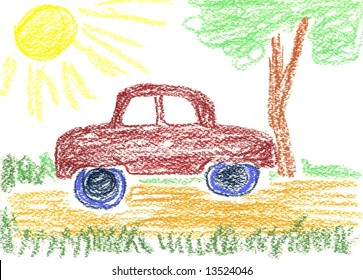car: (54, 83, 277, 210)
sun: (1, 1, 169, 124)
tree: (181, 1, 363, 181)
